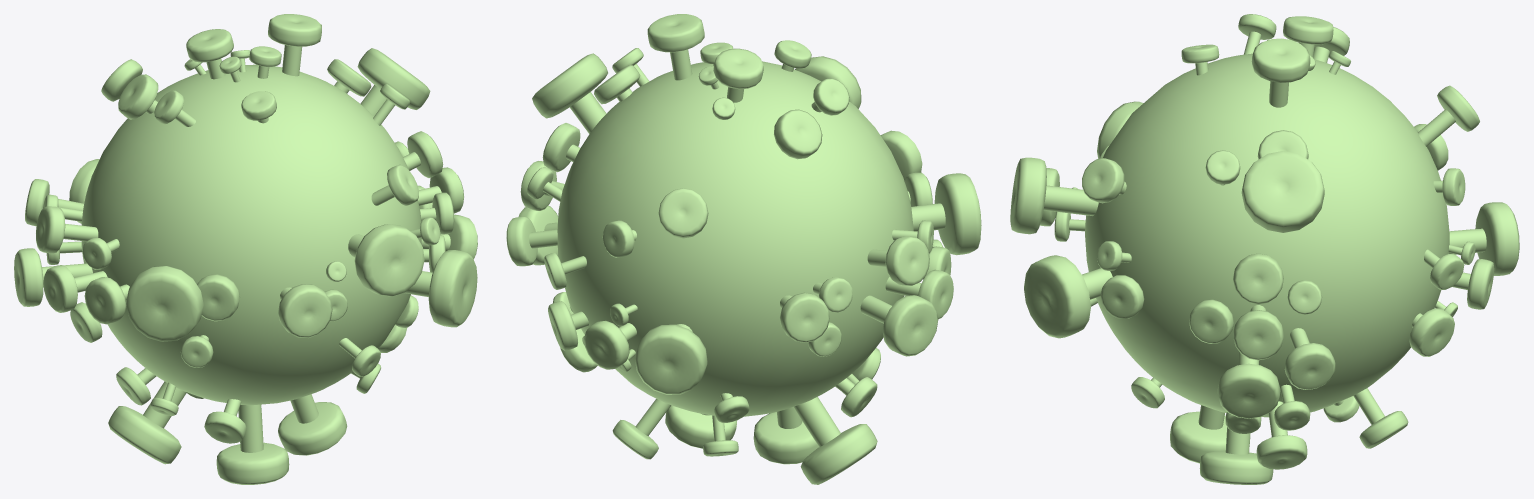
Rendered from virus.gltf.
The picture shows the model from 3 angles, left to right: view 1: azimuth 30°, elevation 25°; view 2: azimuth 150°, elevation 25°; view 3: azimuth 270°, elevation 25°; orthographic projection. The views are drawn at different scales.
Parts seen in each view (by area): view 1: virus; view 2: virus; view 3: virus.
Boxes of the visible parts, x1,y1,x2,y2 form: virus: (14,14,477,484); virus: (506,14,981,484); virus: (1010,14,1519,484).
Bounding box in the file's own units: 85.07 × 80.55 × 83.3.
